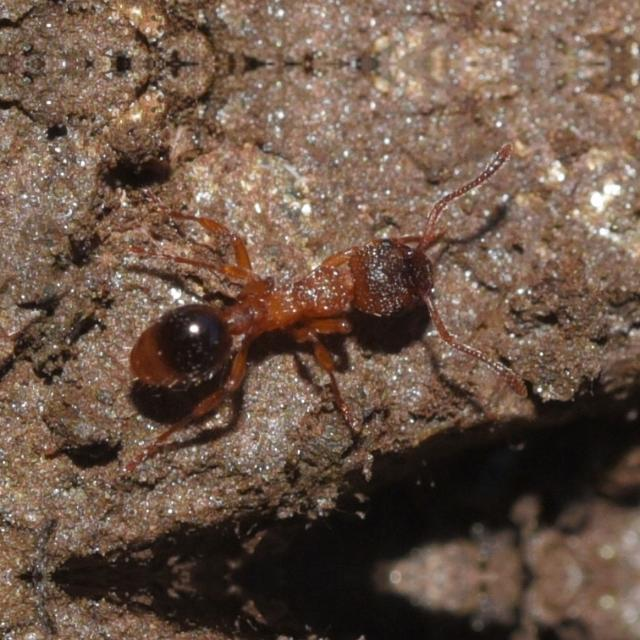Myrmica: (82, 160, 516, 426)
